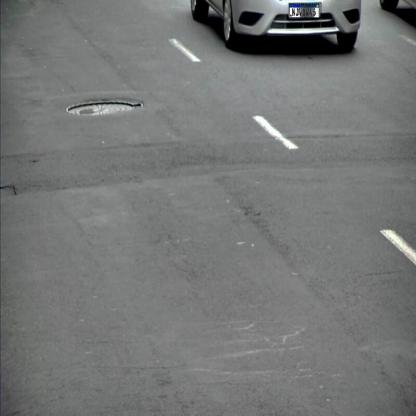PlacaM: (289, 3, 319, 18)
